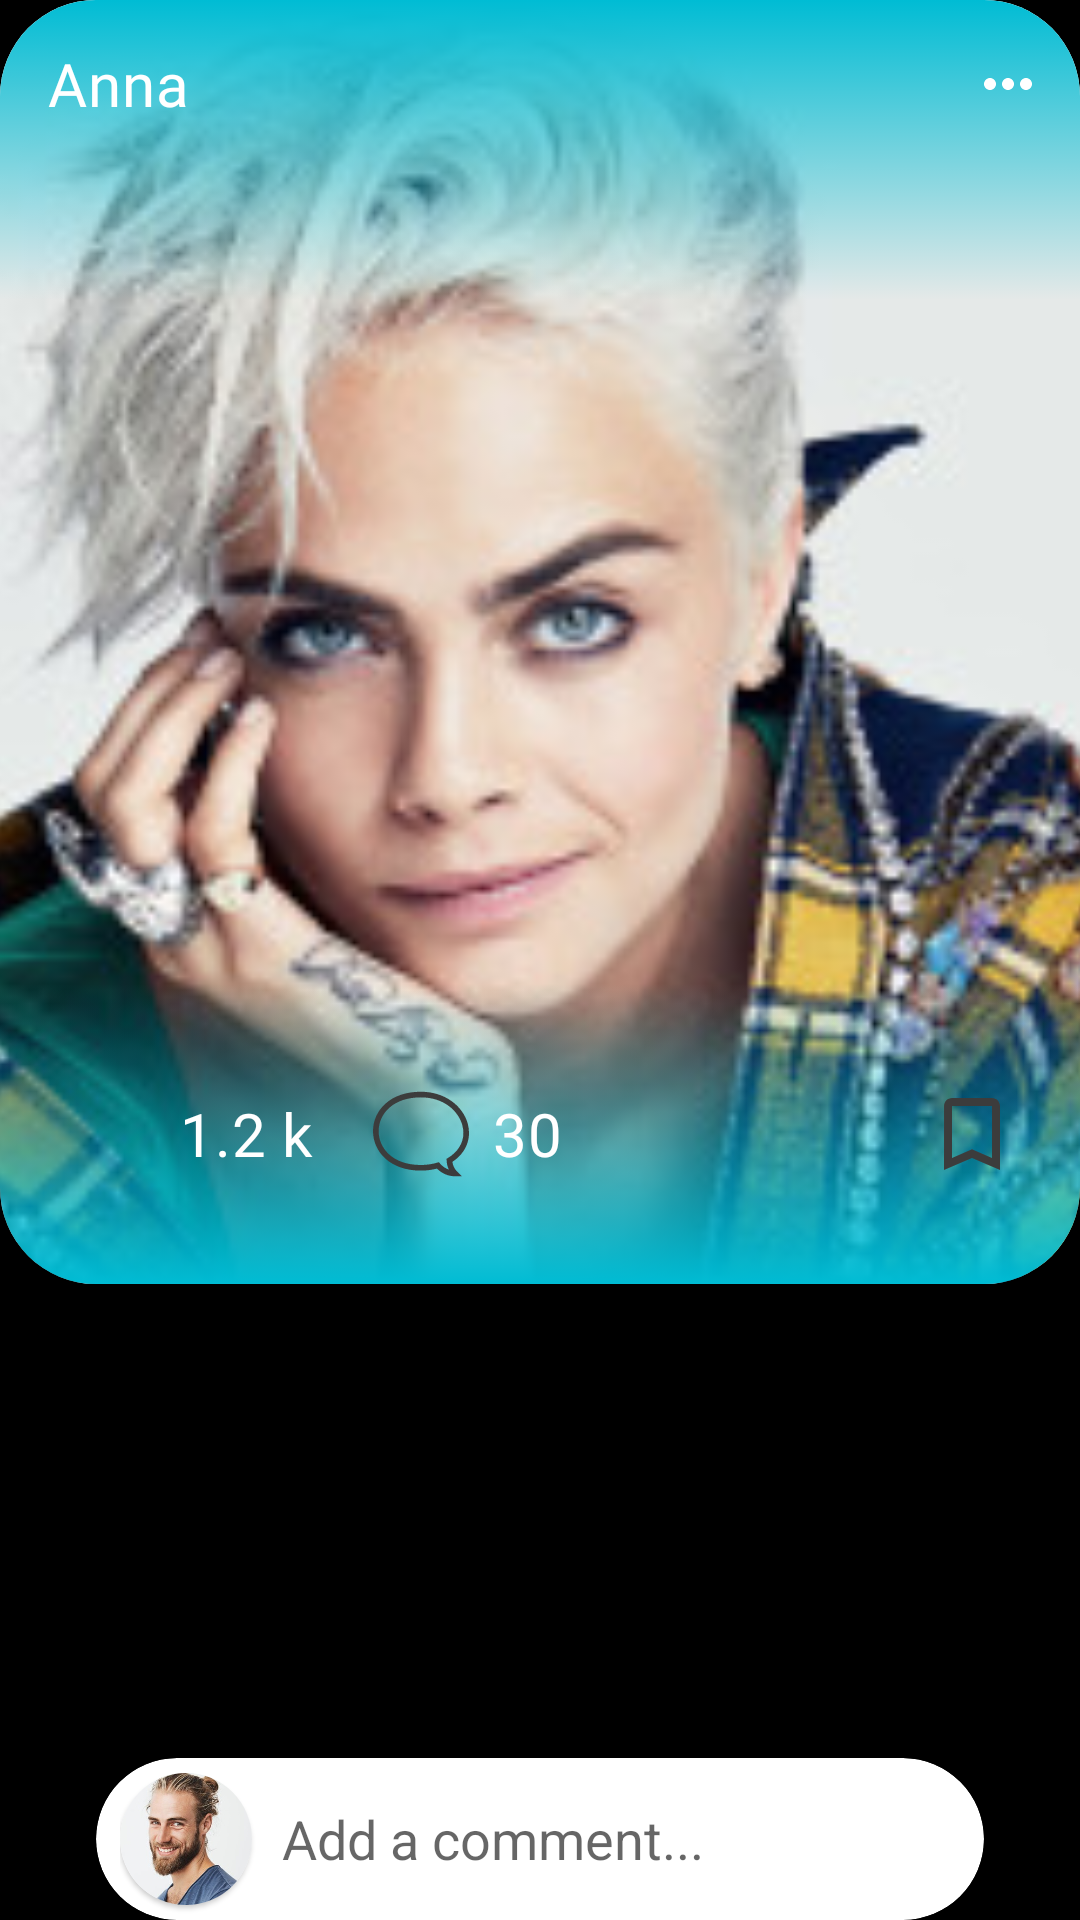

Screen size 1080 × 1920. Icon name, then its box in pixels as (x1, y1, x2, y2):
man: (120, 1773, 243, 1905)
